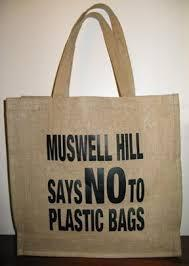Textile: (1, 2, 187, 265)
